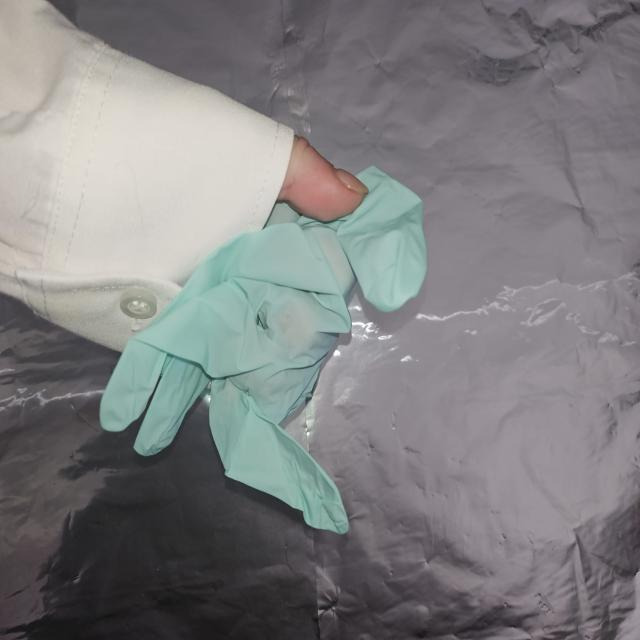glove_partial: (100, 131, 427, 536)
